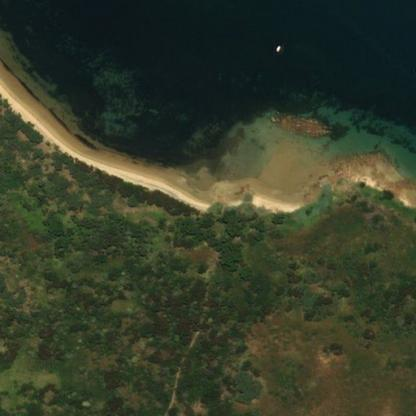ship: (270, 39, 284, 55)
